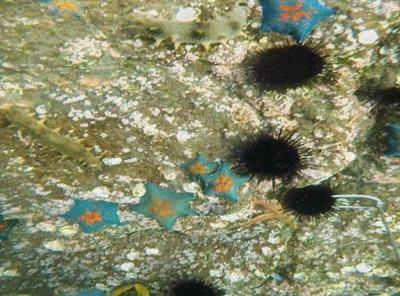urchin: (247, 40, 329, 95), (230, 131, 305, 182), (281, 184, 337, 220)
